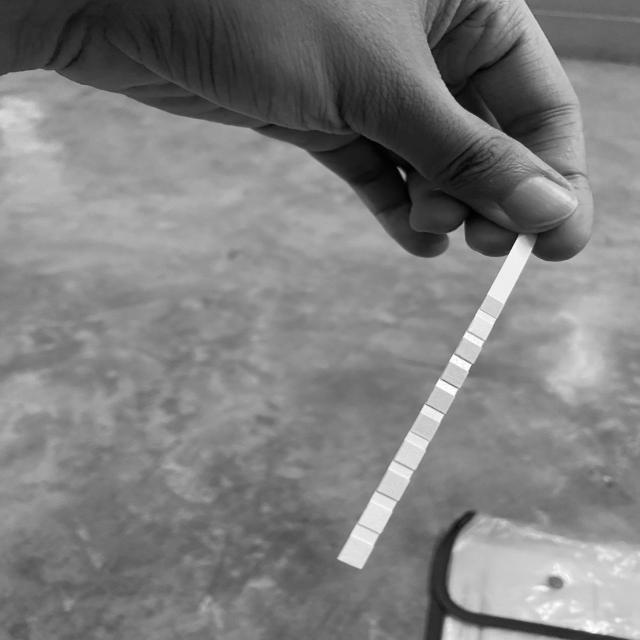Bilirubin: (473, 322, 488, 333)
Blood: (431, 394, 450, 406)
Glucose: (485, 300, 499, 312)
Ketone: (461, 345, 476, 356)
Leukocytes: (346, 544, 366, 562)
Nitrite: (366, 509, 384, 527)
SpGravity: (446, 369, 463, 381)
Urobilinogen: (384, 479, 404, 493)
background: (0, 0, 640, 640)
pH: (400, 449, 420, 462), (416, 420, 434, 433)
strip: (336, 239, 534, 570)
